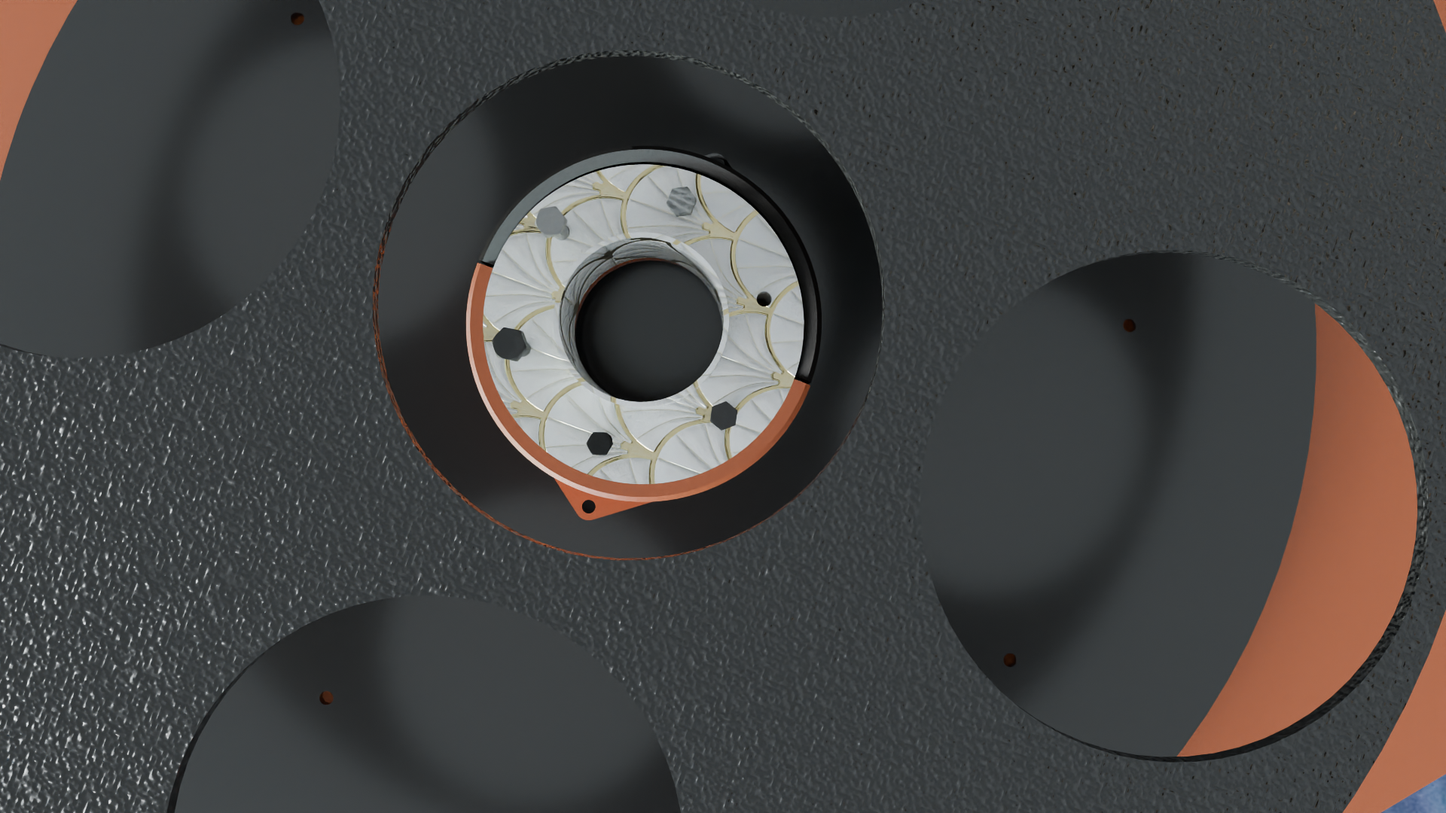bolt: (492, 327, 526, 361), (535, 206, 566, 236), (709, 401, 738, 431), (667, 187, 697, 215), (586, 432, 612, 455)
